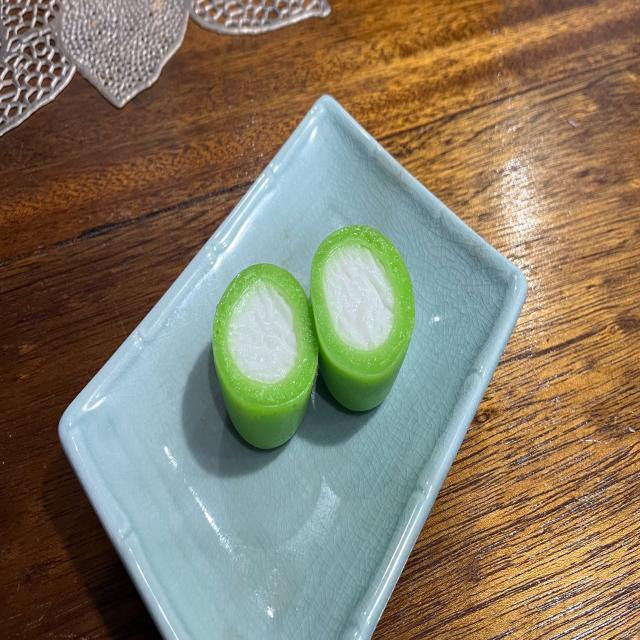nona-manis: (212, 264, 319, 449), (310, 227, 415, 411)
